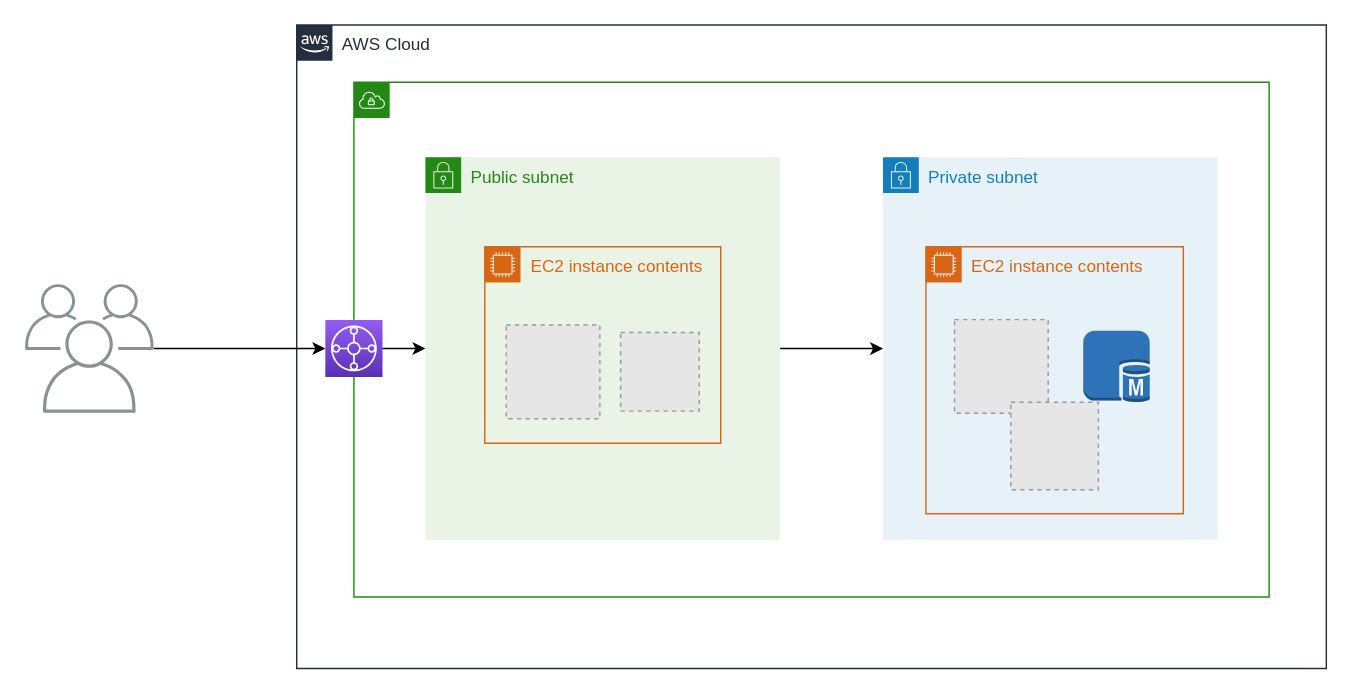
Some shapes in this 1351 by 694 pixel diagram are drawn without their labels. Grey dashed boxes stand in for pictures. Each missing label, with the box of its shape:
users: (24, 283, 153, 412)
VPC: (352, 81, 1269, 597)
